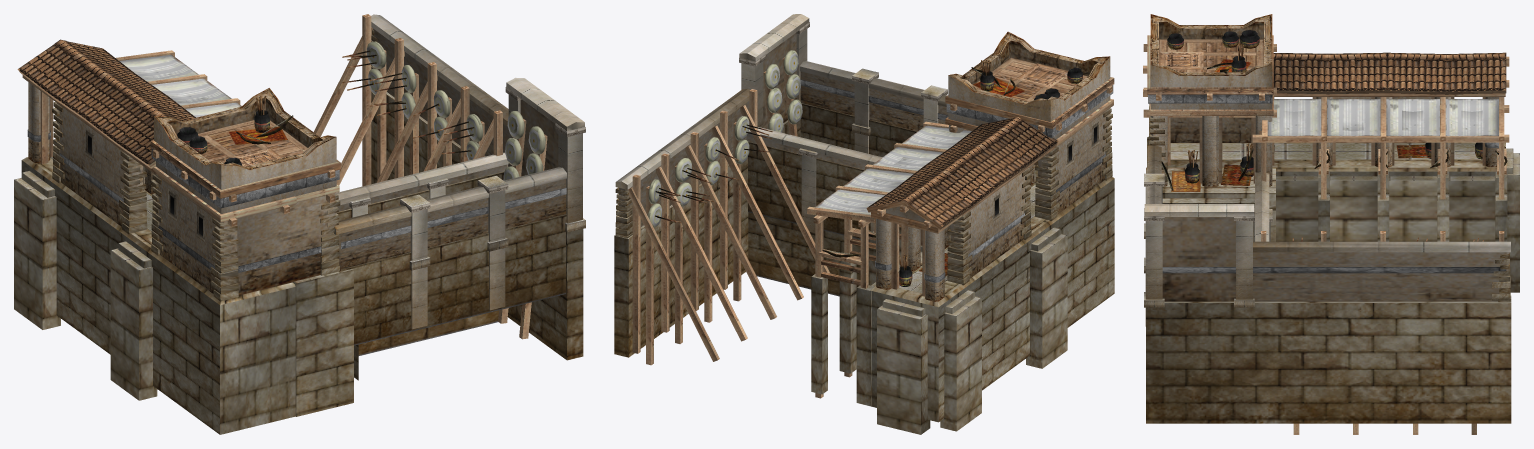
File: s_seleucids_range.glb
3 renders of one model, left to right at view 1: azimuth 30°, elevation 25°; view 2: azimuth 150°, elevation 25°; view 3: azimuth 270°, elevation 25°, orthographic. The views are drawn at different scales.
Visible parts, largest first — view 1: s_seleucids_range_part0; view 2: s_seleucids_range_part0; view 3: s_seleucids_range_part0.
Boxes of the visible parts, x1=… form: s_seleucids_range_part0: x1=14, y1=14, x2=585, y2=434; s_seleucids_range_part0: x1=614, y1=14, x2=1114, y2=434; s_seleucids_range_part0: x1=1143, y1=14, x2=1519, y2=434.
Bounding box in the file's own units: 3.8 × 2.96 × 3.63.
Materials: 1 (1 with a texture image).
